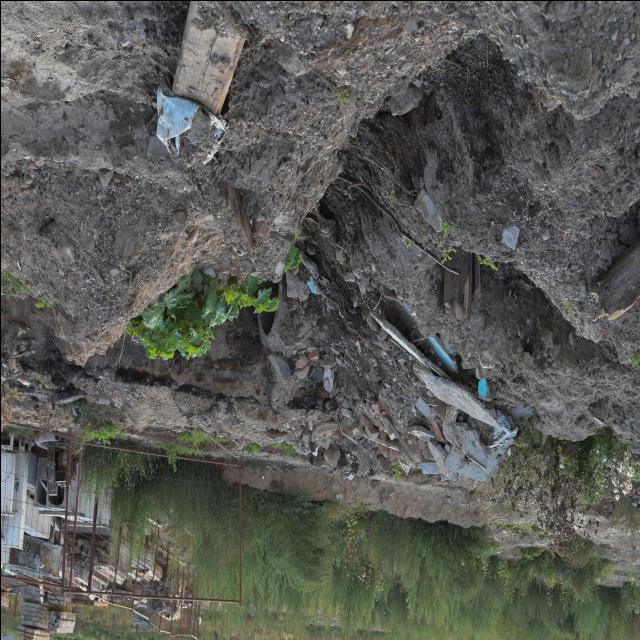entulho: (0, 426, 192, 640), (369, 294, 525, 468), (142, 0, 260, 181), (266, 340, 364, 478)
terra: (0, 143, 201, 374), (470, 0, 638, 220), (424, 294, 640, 446), (222, 118, 336, 284)
